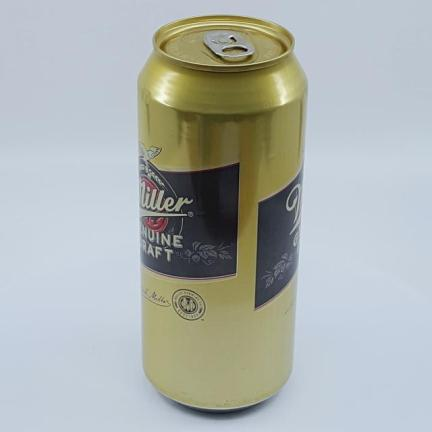can: (138, 16, 307, 410)
